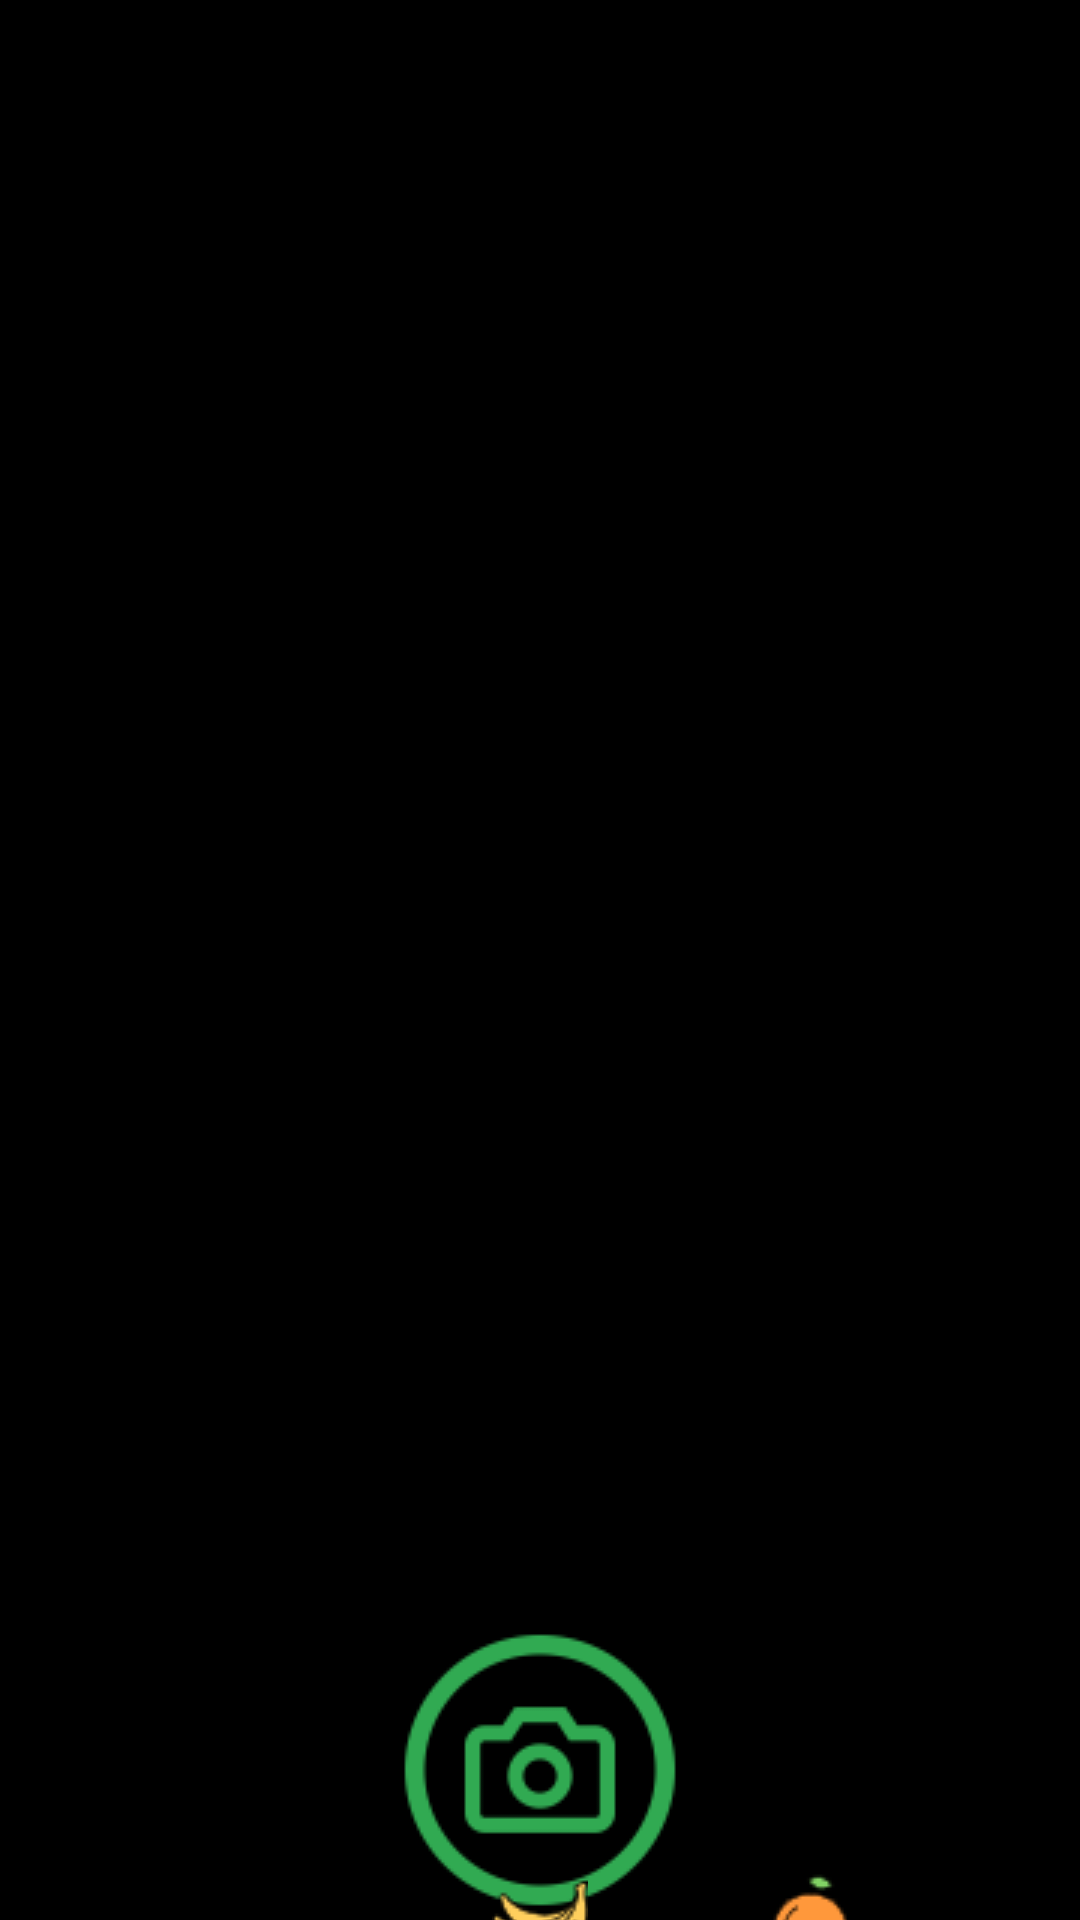

Screen size 1080 x 1920. Icon name, then its center in pixels as [x,y]:
camera: [540,1777]
